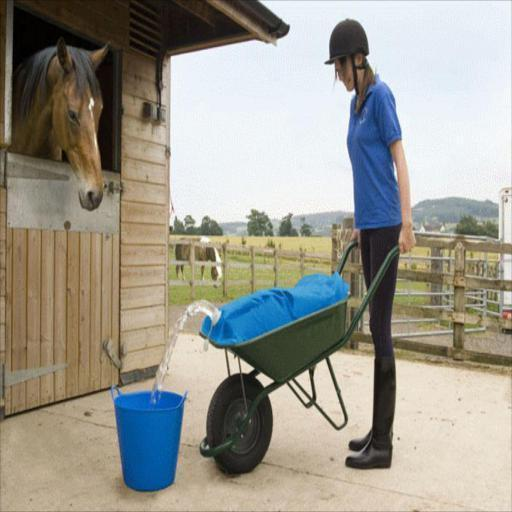horse: (12, 36, 112, 212)
